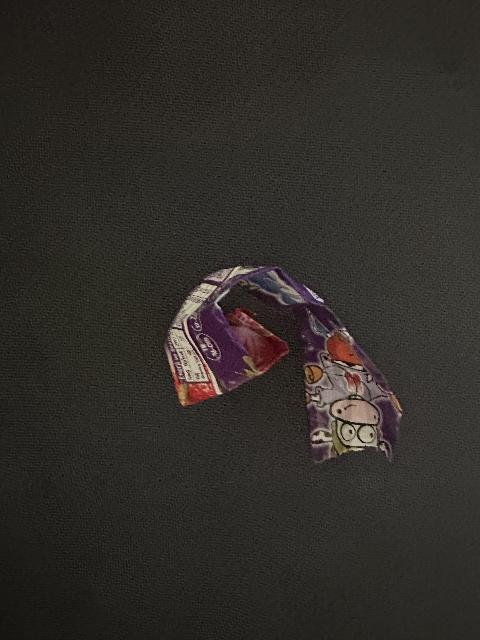Plastik: (160, 256, 402, 463)
